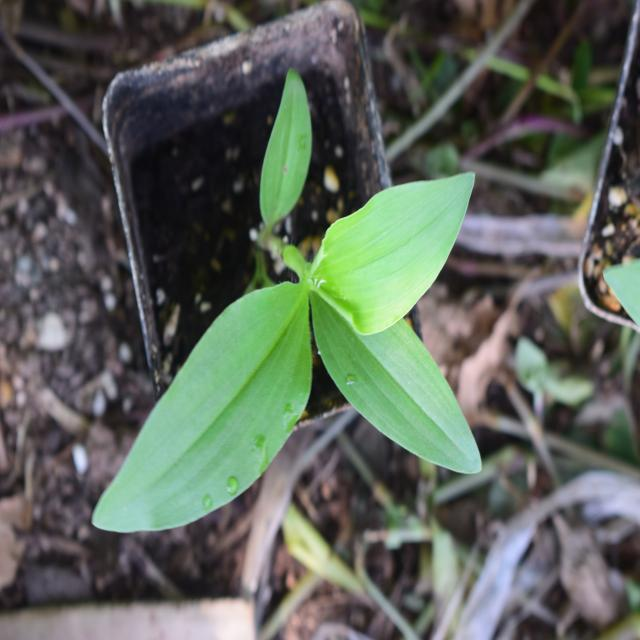Common Dayflower: (88, 145, 502, 547)
